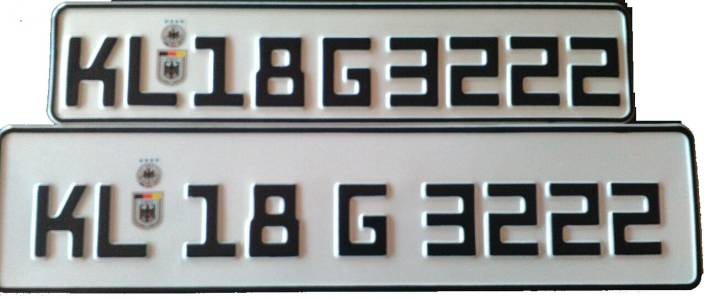number_plate: (1, 123, 704, 291), (48, 1, 637, 124)
